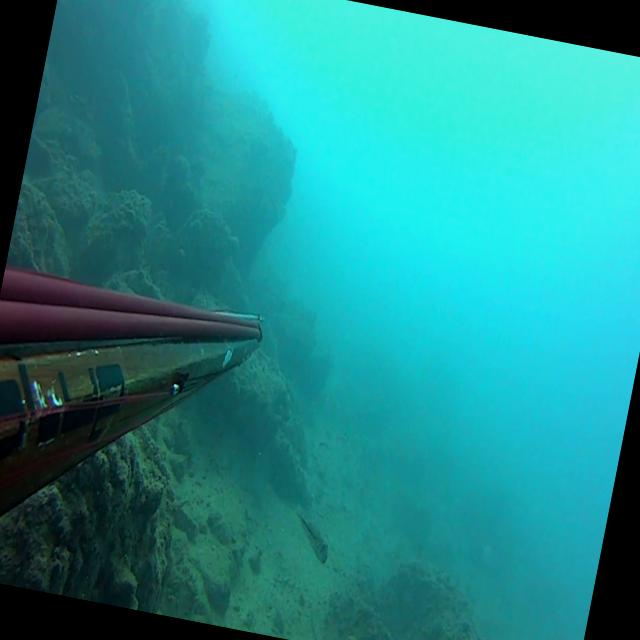Balon Baligi: (284, 502, 336, 564)
